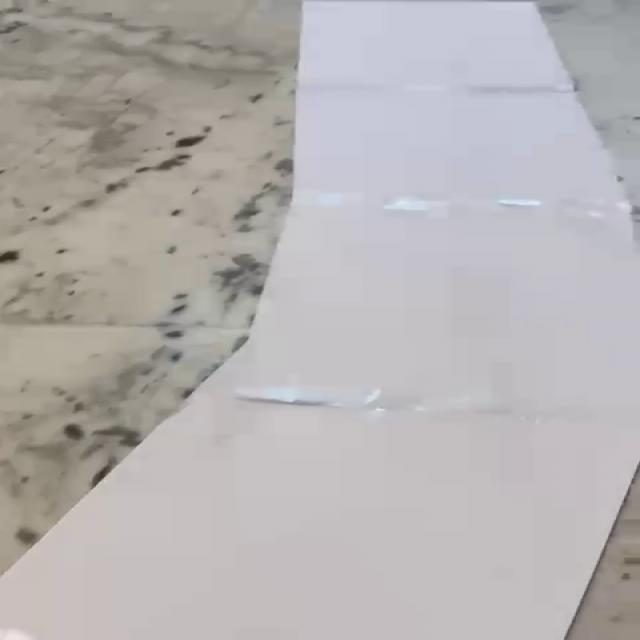road: (0, 0, 640, 640)
